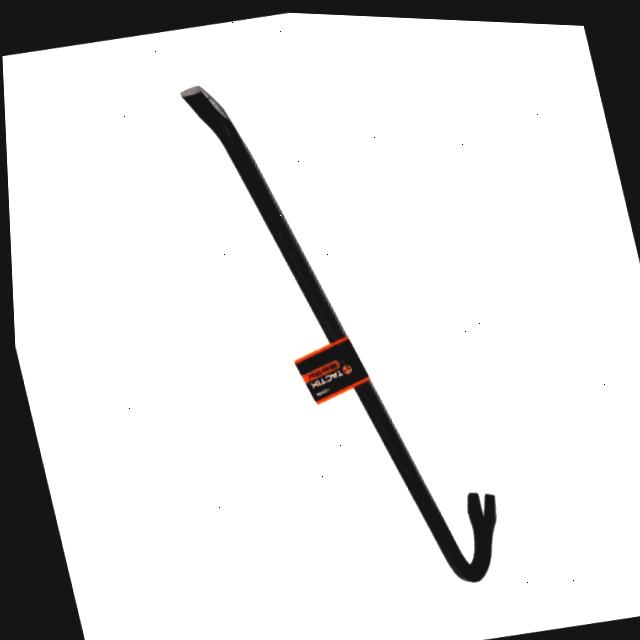crow bar: (169, 82, 503, 582)
